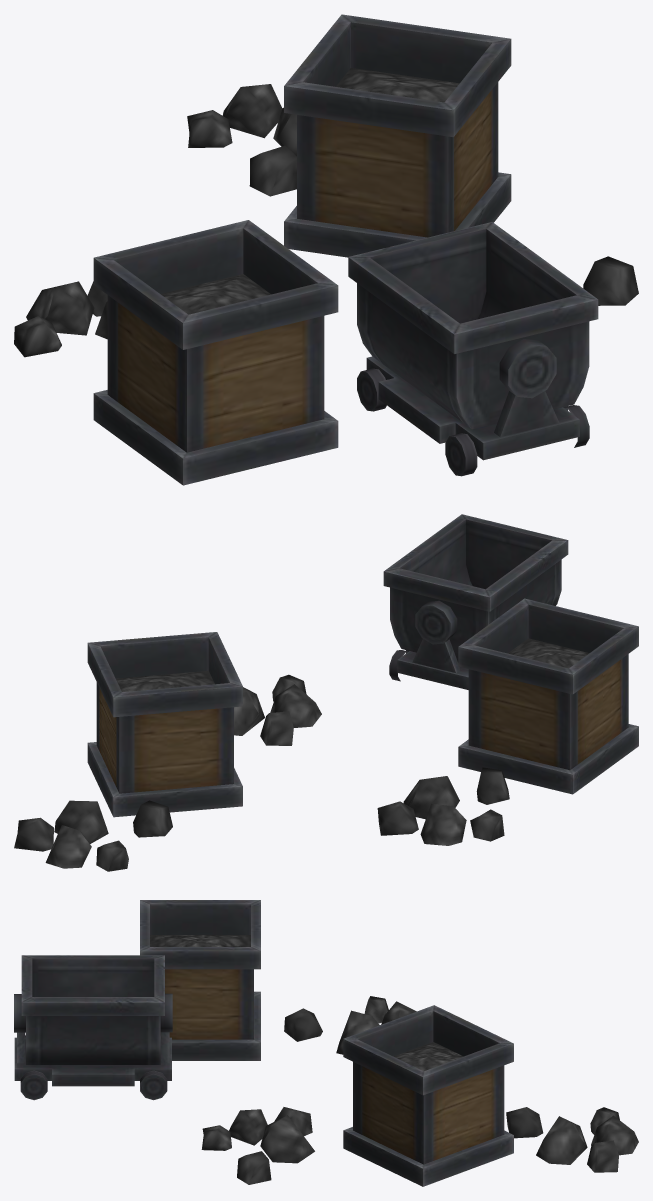
Rendered from carrinhoDaMina.glb.
3 renders of one model, top to bottom at view 1: azimuth 30°, elevation 25°; view 2: azimuth 150°, elevation 25°; view 3: azimuth 270°, elevation 25°, orthographic. The views are drawn at different scales.
Parts seen in each view (by area): view 1: Mine_Box (1), Mine_Cart, Mine_Box, Mine_Ore (2), Mine_Ore (1), Mine_Ore; view 2: Mine_Box (1), Mine_Box, Mine_Cart, Mine_Ore (2), Mine_Ore (1), Mine_Ore; view 3: Mine_Box, Mine_Cart, Mine_Box (1), Mine_Ore, Mine_Ore (2), Mine_Ore (1).
Part boxes in pixels (x1,y1,x2,y2): Mine_Box (1): (93, 220, 338, 485); Mine_Cart: (348, 222, 598, 476); Mine_Box: (284, 14, 511, 257); Mine_Ore (2): (187, 84, 296, 196); Mine_Ore (1): (14, 281, 107, 357); Mine_Ore: (583, 256, 638, 305); Mine_Box (1): (458, 598, 638, 794); Mine_Box: (87, 632, 242, 817); Mine_Cart: (383, 514, 568, 689); Mine_Ore (2): (14, 800, 172, 871); Mine_Ore (1): (377, 767, 509, 845); Mine_Ore: (234, 674, 321, 745); Mine_Box: (343, 1005, 513, 1186); Mine_Cart: (14, 955, 172, 1100); Mine_Box (1): (140, 900, 260, 1060); Mine_Ore: (201, 1107, 314, 1184); Mine_Ore (2): (506, 1107, 638, 1172); Mine_Ore (1): (284, 996, 416, 1054).
Size of the model in its own units: 1.69 by 0.5159 by 2.51.
Materials: 1 (1 with a texture image).
